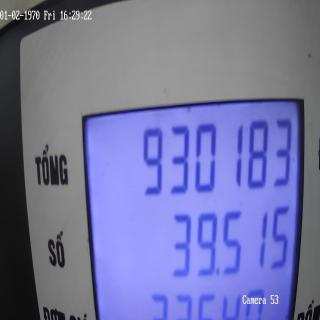screen: (78, 88, 306, 320)
